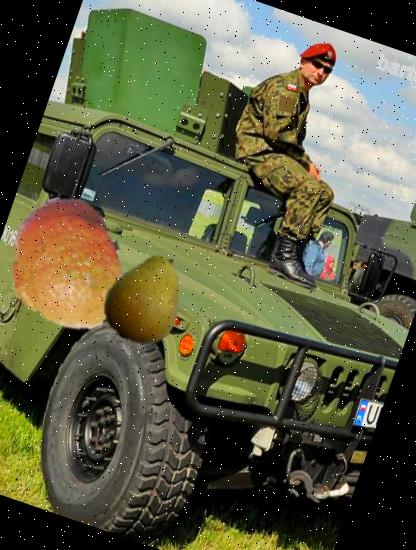Mandarine: (0, 179, 152, 351)
Pear: (88, 239, 206, 358)
